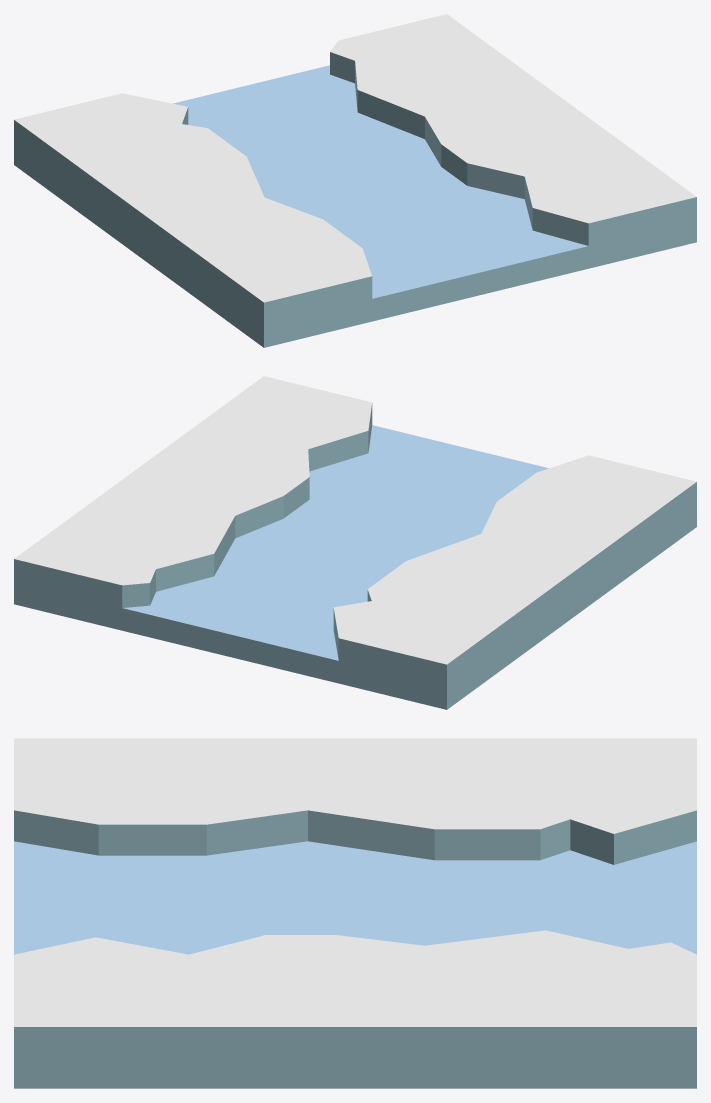
The model's file is Terrain_Modular_Tiles_Snow_Ice_River_Straight_01.fbx.
3 renders of one model, top to bottom at view 1: azimuth 30°, elevation 25°; view 2: azimuth 150°, elevation 25°; view 3: azimuth 270°, elevation 25°, orthographic. The views are drawn at different scales.
Visible parts, largest first — view 1: Terrain_Modular_Tiles_Snow_Ice_River_Straight_01; view 2: Terrain_Modular_Tiles_Snow_Ice_River_Straight_01; view 3: Terrain_Modular_Tiles_Snow_Ice_River_Straight_01.
Part boxes in pixels (box(x1,y1,x2,y2)): Terrain_Modular_Tiles_Snow_Ice_River_Straight_01: box(14, 14, 696, 347); Terrain_Modular_Tiles_Snow_Ice_River_Straight_01: box(14, 376, 696, 709); Terrain_Modular_Tiles_Snow_Ice_River_Straight_01: box(14, 738, 696, 1088).
Bounding box in the file's own units: 3000 × 300 × 3000.
